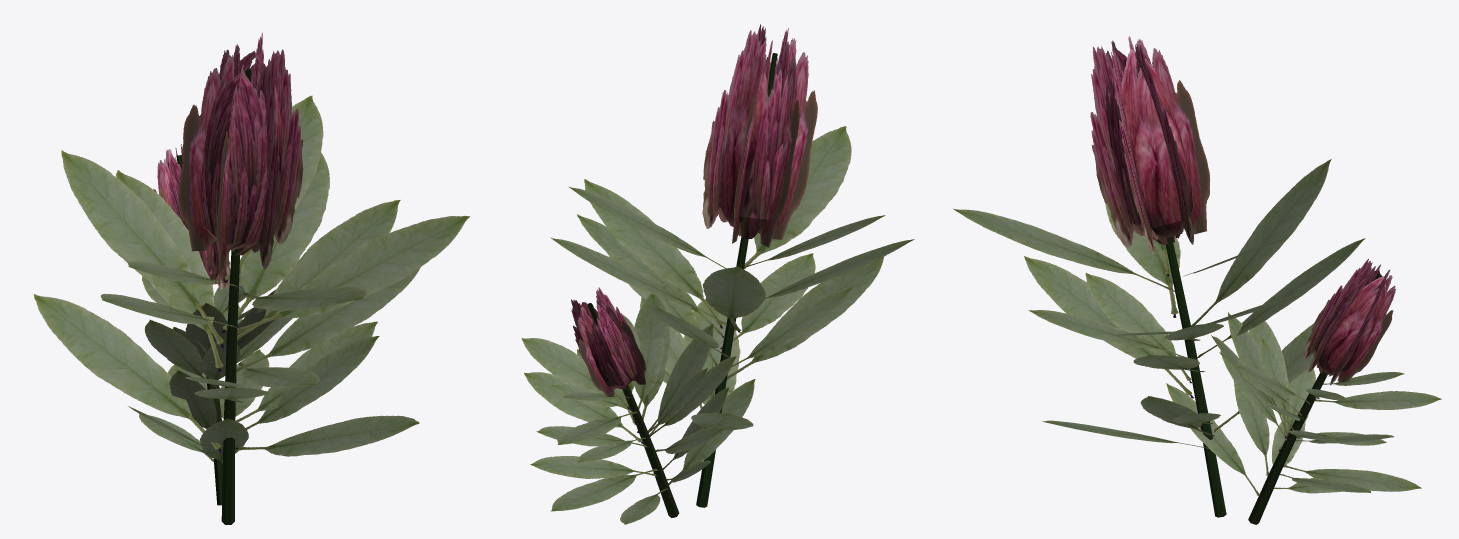
Rendered from category_mesh_flower_0_v2.glb.
3 renders of one model, left to right at view 1: azimuth 30°, elevation 25°; view 2: azimuth 150°, elevation 25°; view 3: azimuth 270°, elevation 25°, orthographic. The views are drawn at different scales.
Visible parts, largest first — view 1: category_mesh_flower_0_v2; view 2: category_mesh_flower_0_v2; view 3: category_mesh_flower_0_v2.
Boxes of the visible parts, x1,y1,x2,y2 form: category_mesh_flower_0_v2: (34,32,469,524); category_mesh_flower_0_v2: (521,24,914,524); category_mesh_flower_0_v2: (953,36,1441,524).
Bounding box in the file's own units: 0.2565 × 0.3317 × 0.3127.
1 material, 1 textured.
